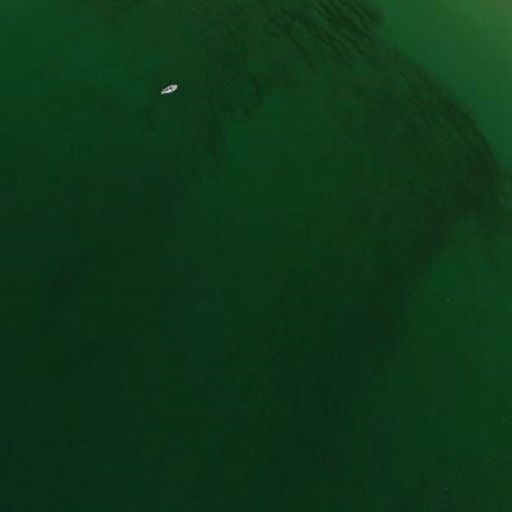ship: (157, 82, 181, 97)
